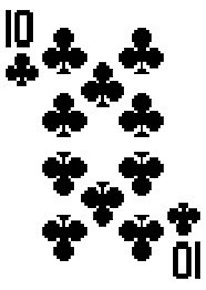TenOfClubs: (1, 4, 205, 286)
